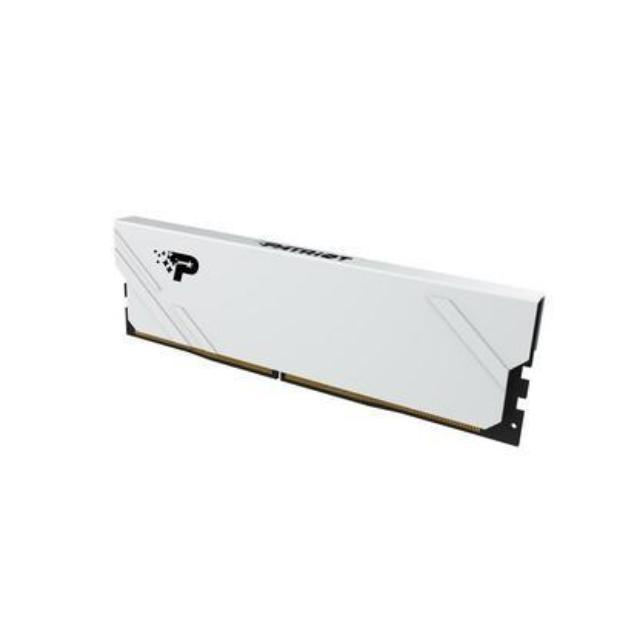RAM: (100, 206, 571, 452)
